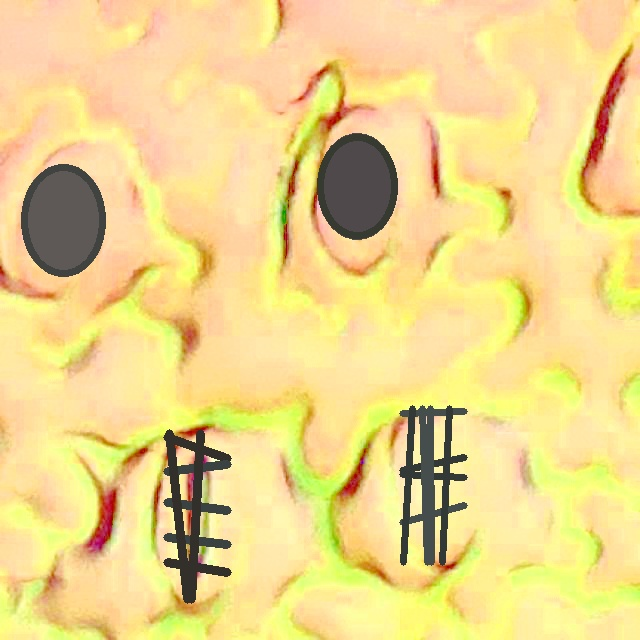close: (400, 405, 466, 565), (318, 133, 397, 239)
open: (163, 429, 231, 603), (21, 164, 105, 276)
